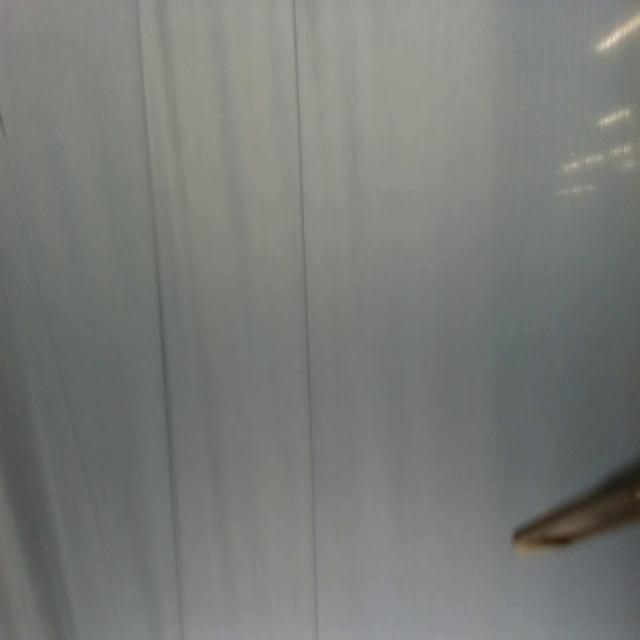crease: (0, 108, 110, 575), (135, 0, 186, 640), (292, 0, 320, 640)
